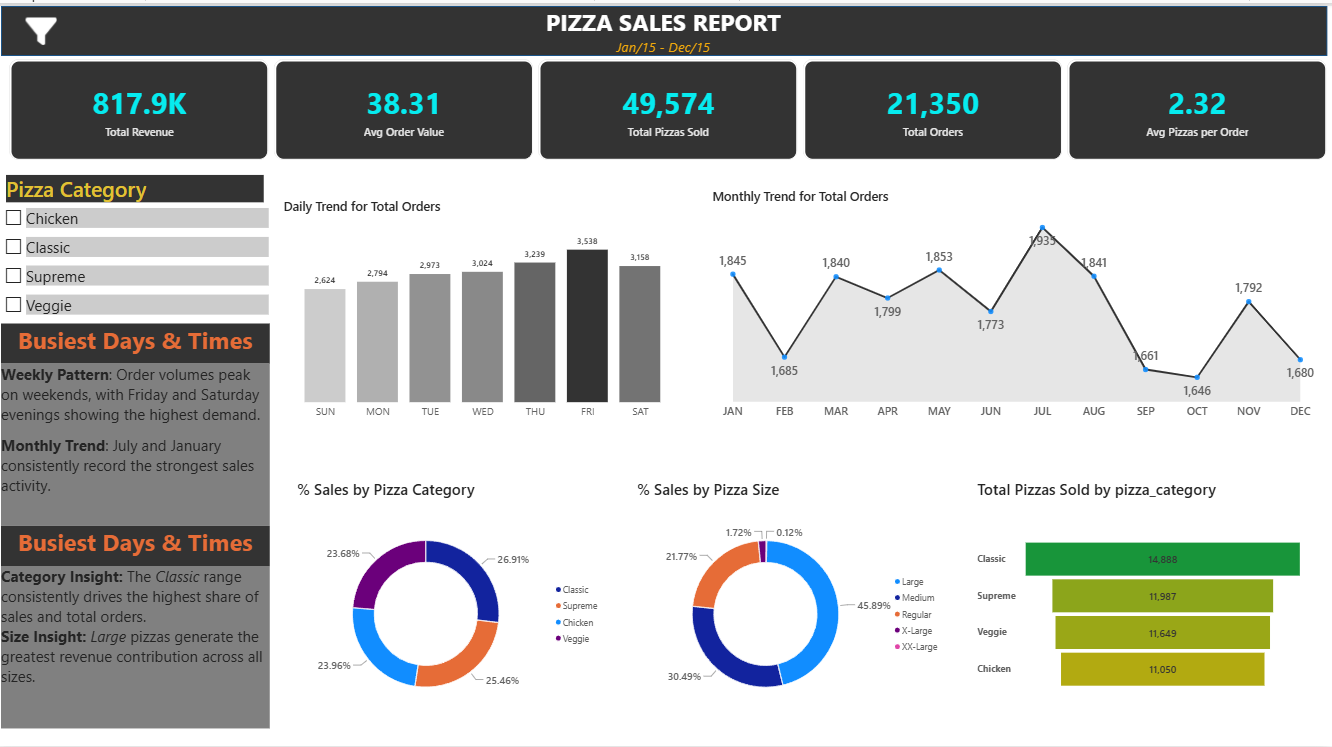

Layout of this report page (visuals, bound fields, positions):
{"tool":"powerbi","page":{"name":"Home","canvas":[2130,1180],"ordinal":0},"visuals":[{"type":"cardVisual","fields":{"Data":["pizza_sales.Total Revenue","pizza_sales.Avg Order Value","pizza_sales.Total Pizzas Sold","pizza_sales.Total Orders","pizza_sales.Avg Pizzas per Order"]},"box":[16,79.8,2114,171.5],"z":0},{"type":"shape","box":[8,269.2,428.8,883.5],"z":1000},{"type":"shape","box":[7.9,0,2116,79.8],"z":2000},{"type":"textbox","box":[8,505.7,428.8,63.8],"z":3000},{"type":"textbox","box":[833.7,0,462.7,79.8],"z":4000},{"type":"textbox","box":[8,569.5,428.8,259.3],"z":5000},{"type":"columnChart","title":"Daily Trend for Total Orders","fields":{"Category":["pizza_sales.Order Day"],"Y":["pizza_sales.Total Orders"]},"box":[442.9,290.7,668.3,387.5],"z":6000},{"type":"textbox","box":[8,828.8,428.8,63.8],"z":7000},{"type":"areaChart","title":"Monthly Trend for Total Orders","fields":{"Category":["pizza_sales.Month Name"],"Y":["pizza_sales.Total Orders"]},"box":[1126.8,275.2,1003.2,402.9],"z":8000},{"type":"textbox","box":[8,892.6,428.8,259.3],"z":9000},{"type":"donutChart","title":"% Sales by Pizza Category","fields":{"Category":["pizza_sales.pizza_category"],"Y":["pizza_sales.Total Revenue"]},"box":[463.9,739.9,520,412.8],"z":10000},{"type":"slicer","fields":{"Values":["pizza_sales.pizza_category"]},"box":[8.1,269.3,427.1,236],"z":11000},{"type":"donutChart","title":"% Sales by Pizza Size","fields":{"Category":["pizza_sales.pizza_size"],"Y":["pizza_sales.Total Revenue"]},"box":[1007,739.5,520,413.2],"z":12000},{"type":"funnel","fields":{"Category":["pizza_sales.pizza_category"],"Y":["pizza_sales.Total Pizzas Sold"]},"box":[1550.1,739.5,551.6,413.2],"z":13000},{"type":"actionButton","box":[16,0,111.7,79.8],"z":14000}]}

Visuals, with their boxes in screenshot pixels (x1, y1, x2, y2), scaled from the page's 2130x1180 canvas onto the 1332x747 screenshot:
cardVisual - pizza_sales.Total Revenue x pizza_sales.Avg Order Value: 10:51:1331:159
shape: 5:170:273:730
shape: 5:0:1328:51
textbox: 5:320:273:361
textbox: 521:0:811:51
textbox: 5:361:273:525
"Daily Trend for Total Orders" columnChart: 277:184:695:429
textbox: 5:525:273:565
"Monthly Trend for Total Orders" areaChart: 705:174:1331:429
textbox: 5:565:273:729
"% Sales by Pizza Category" donutChart: 290:468:615:730
slicer - pizza_sales.pizza_category: 5:170:272:320
"% Sales by Pizza Size" donutChart: 630:468:955:730
funnel - pizza_sales.pizza_category x pizza_sales.Total Pizzas Sold: 969:468:1314:730
actionButton: 10:0:80:51
